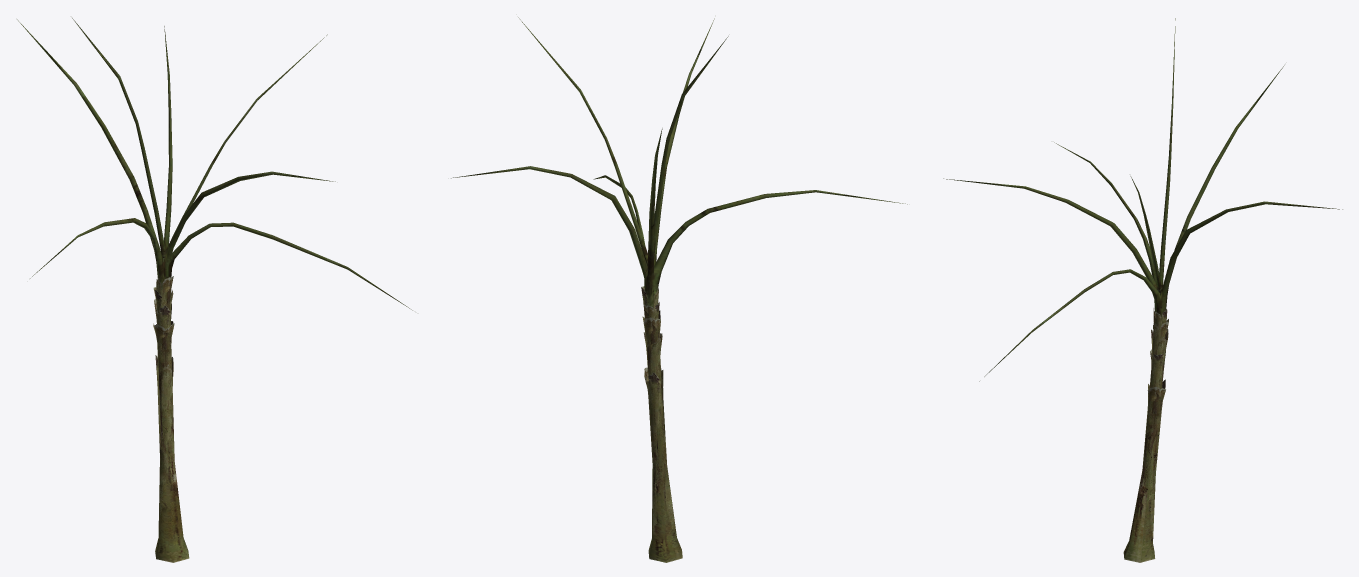
Rendered from banana_bark.obj.
3 views of the same model, side by side, from view 1: azimuth 30°, elevation 25°; view 2: azimuth 150°, elevation 25°; view 3: azimuth 270°, elevation 25° (orthographic). The views are drawn at different scales.
Visible parts, largest first — view 1: palm_tree; view 2: palm_tree; view 3: palm_tree.
Part boxes in pixels (x1,y1,x2,y2): palm_tree: (17, 18, 412, 562); palm_tree: (451, 17, 907, 562); palm_tree: (943, 18, 1342, 562).
Size of the model in its own units: 9.17 by 13.57 by 9.88.
Materials: 1 (1 with a texture image).
